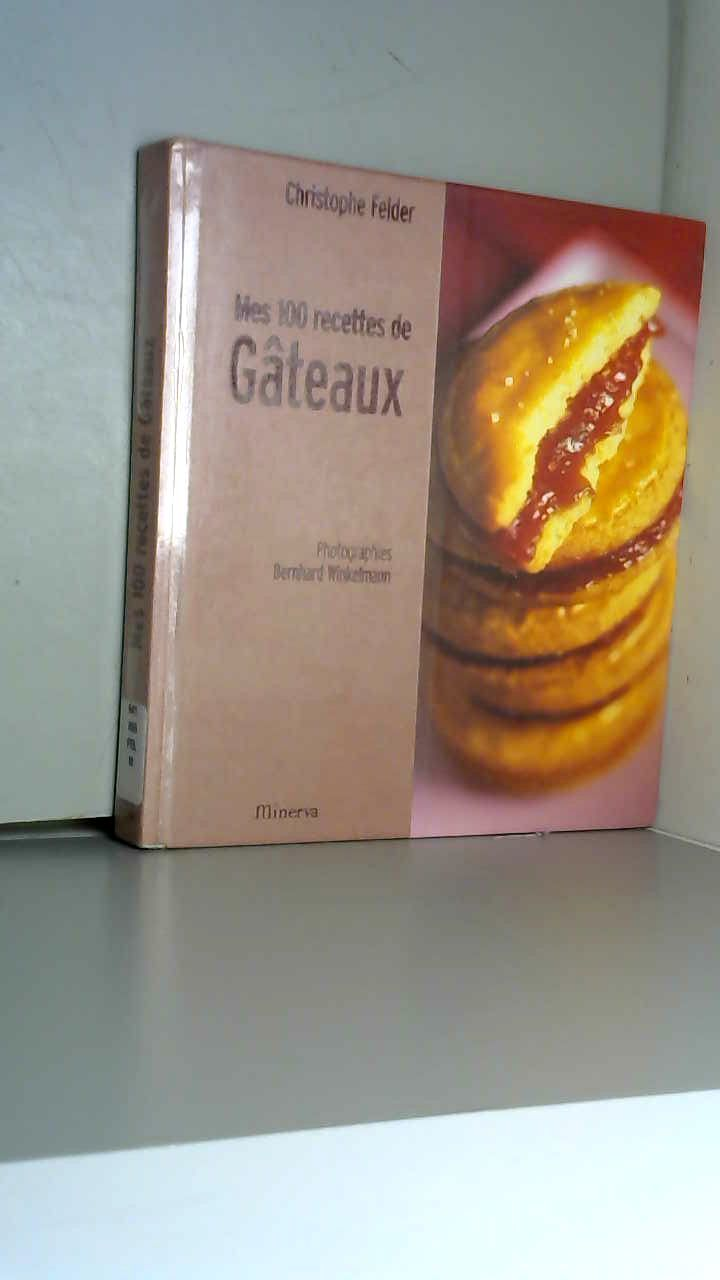book: (91, 114, 720, 882)
